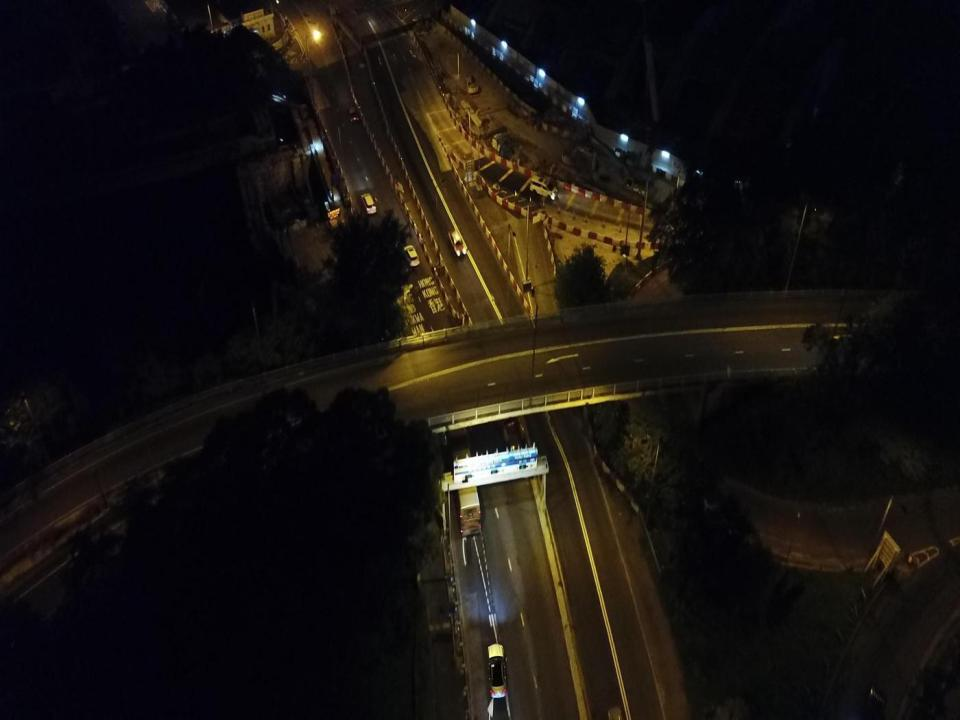bus: (445, 412, 481, 536)
car: (488, 642, 506, 698), (448, 229, 466, 258), (403, 244, 420, 267), (348, 105, 359, 123)
truck: (498, 402, 533, 470)
van: (530, 175, 558, 199), (361, 192, 378, 215)
